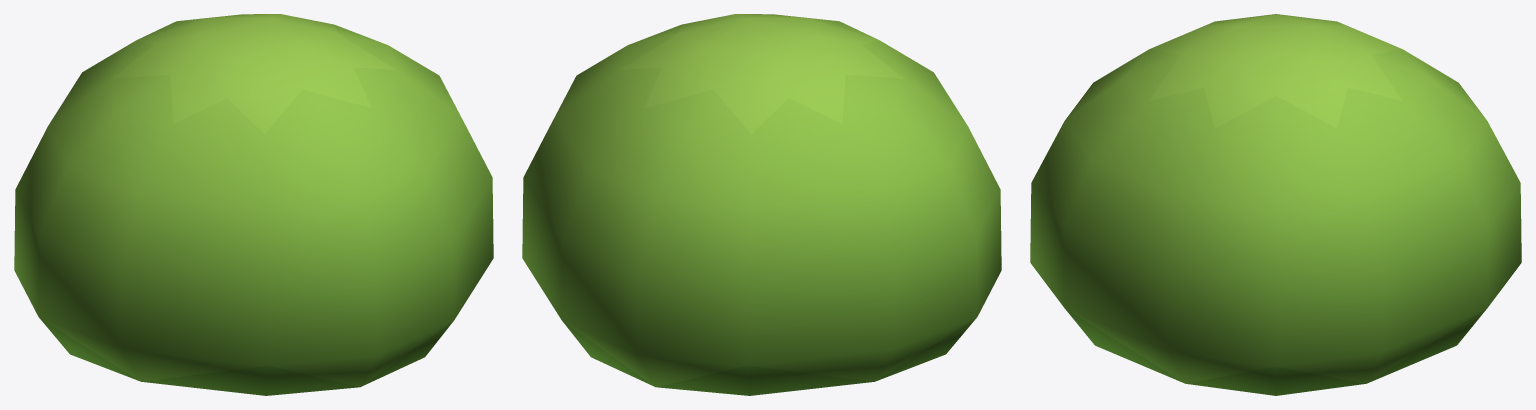
Rendered from Bush_1_B_Color3.fbx.
The picture shows the model from 3 angles, left to right: view 1: azimuth 30°, elevation 25°; view 2: azimuth 150°, elevation 25°; view 3: azimuth 270°, elevation 25°; orthographic projection.
Visible parts, largest first — view 1: Bush_1_B_Color3; view 2: Bush_1_B_Color3; view 3: Bush_1_B_Color3.
Boxes of the visible parts, x1,y1,x2,y2 form: Bush_1_B_Color3: (14,14,493,395); Bush_1_B_Color3: (522,14,1001,395); Bush_1_B_Color3: (1030,14,1521,395).
Bounding box in the file's own units: 0.7224 × 0.4841 × 0.7224.
